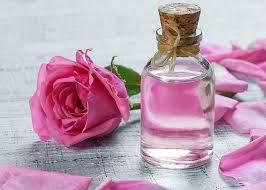Rose: (27, 47, 128, 148)
